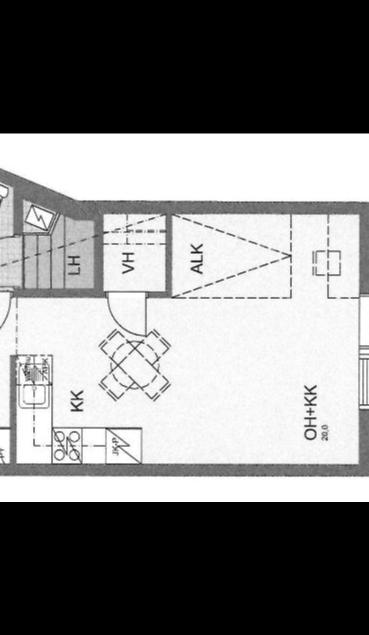door: (101, 285, 153, 337), (0, 234, 25, 290), (0, 286, 13, 349)
perimeter: (0, 133, 369, 476)
window: (352, 346, 369, 412)
